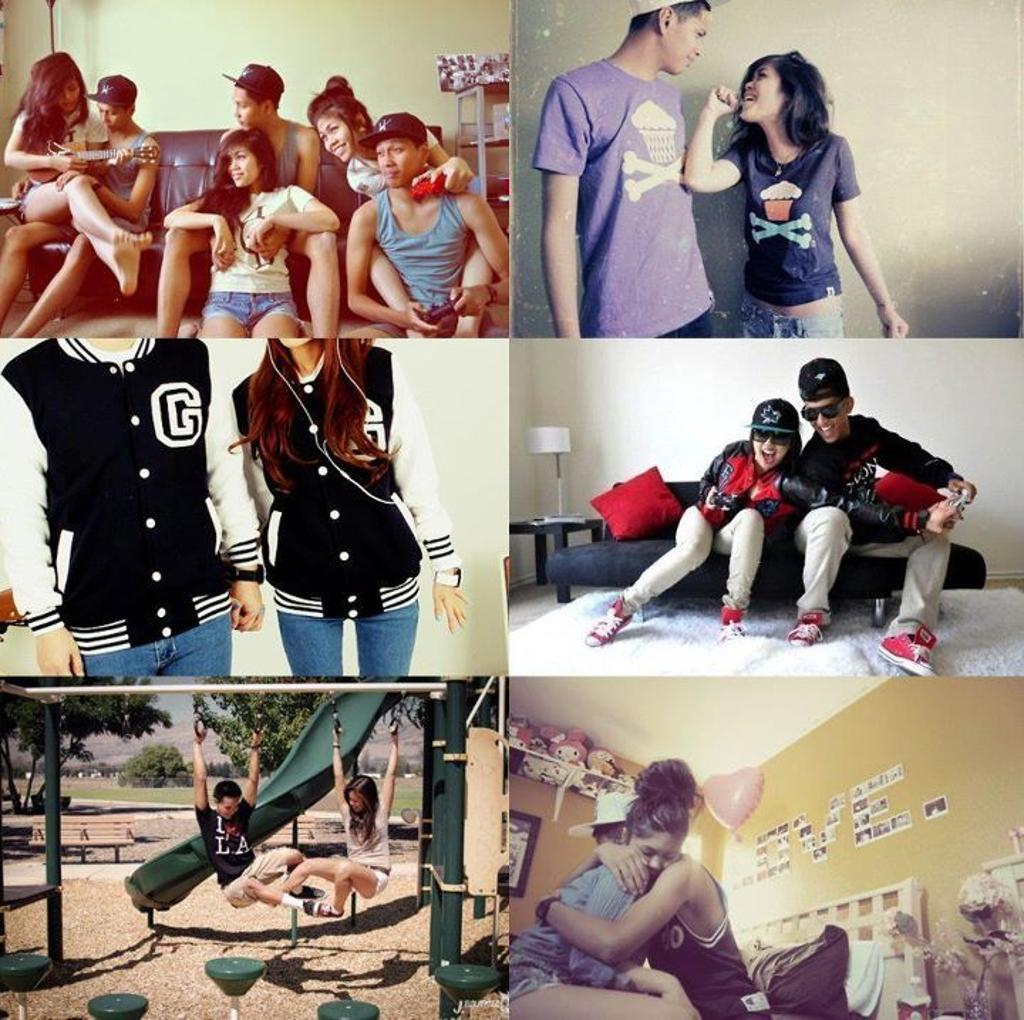face: (739, 60, 780, 121), (634, 829, 679, 884), (668, 18, 710, 74), (801, 392, 843, 443), (375, 140, 416, 188), (316, 115, 355, 162), (756, 424, 789, 469), (224, 146, 253, 186), (233, 88, 261, 128), (52, 74, 78, 111), (98, 102, 126, 132), (219, 795, 237, 817), (348, 788, 364, 812)
